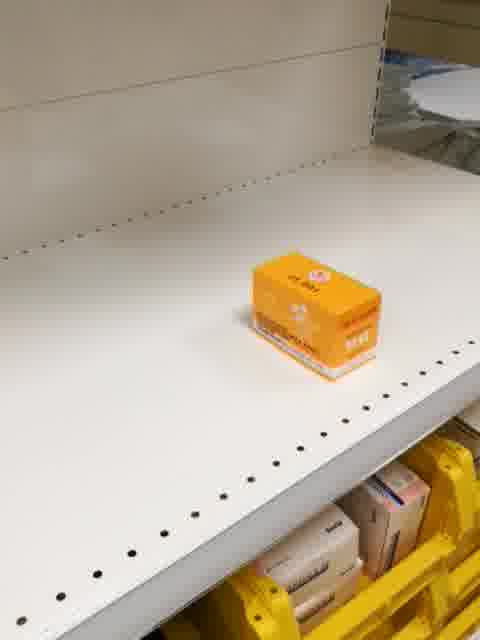jasminetea: (249, 248, 384, 383)
